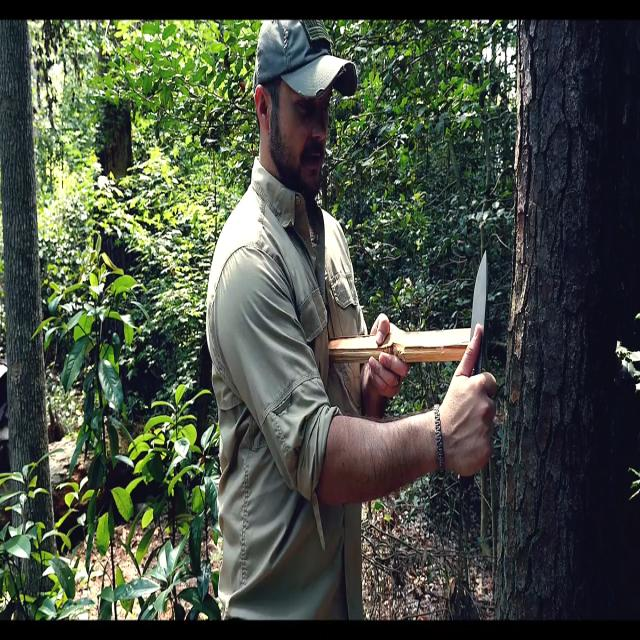knife: (470, 249, 496, 335)
